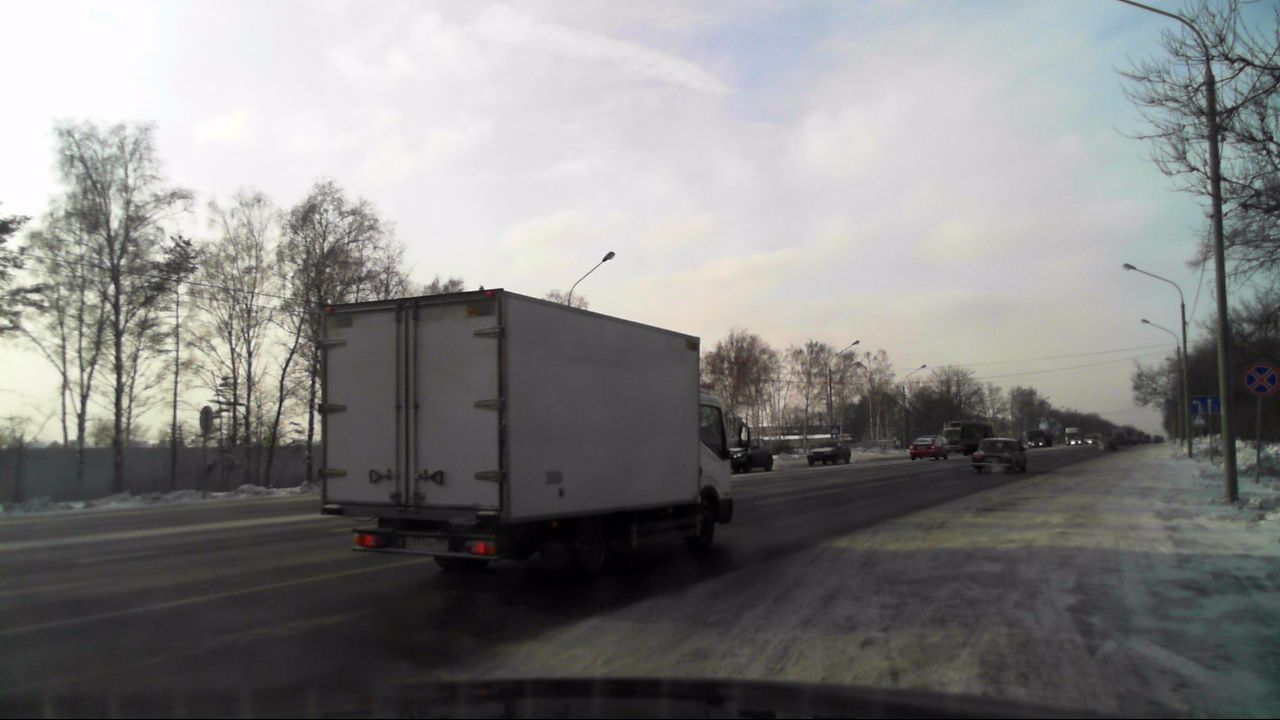No Parking: (1243, 363, 1277, 399)
